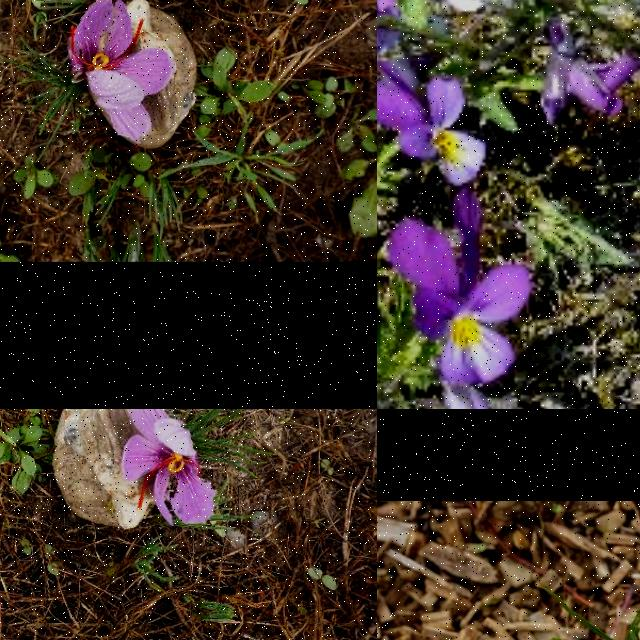flower: (66, 0, 175, 142), (122, 409, 220, 527)
